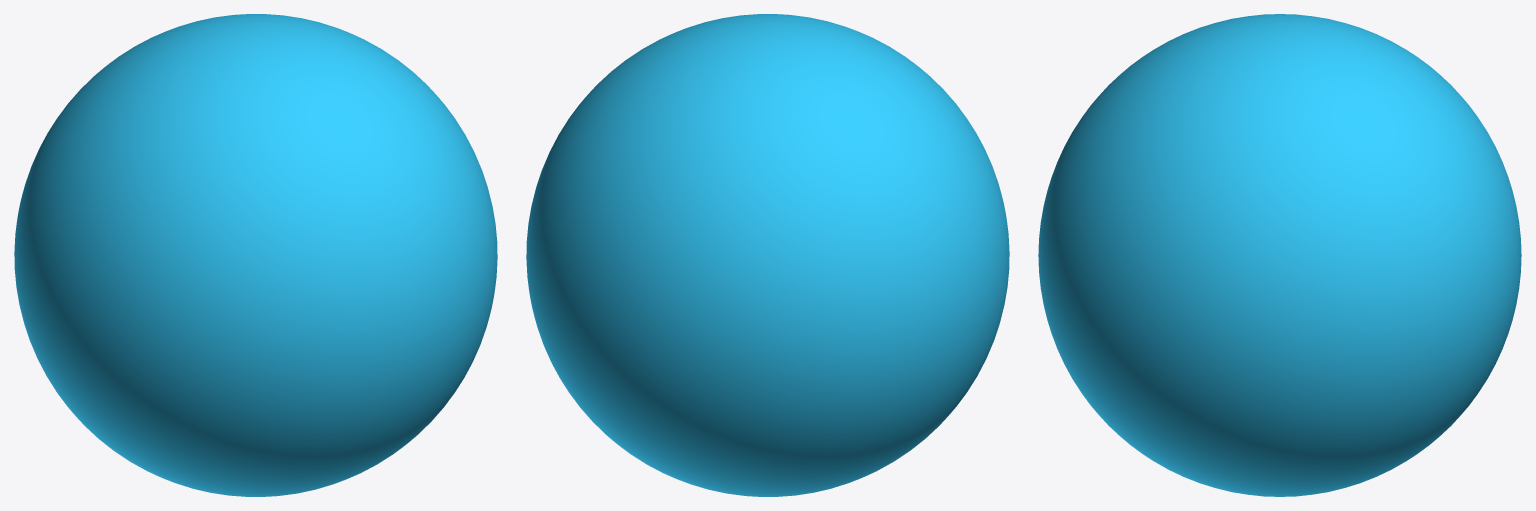
The model's file is world.obj.
3 views of the same model, side by side, from view 1: azimuth 30°, elevation 25°; view 2: azimuth 150°, elevation 25°; view 3: azimuth 270°, elevation 25° (orthographic).
Parts seen in each view (by area): view 1: Icosphere_Icosphere.003; view 2: Icosphere_Icosphere.003; view 3: Icosphere_Icosphere.003.
Boxes of the visible parts, x1=… form: Icosphere_Icosphere.003: x1=14, y1=14, x2=497, y2=496; Icosphere_Icosphere.003: x1=526, y1=14, x2=1009, y2=496; Icosphere_Icosphere.003: x1=1038, y1=14, x2=1521, y2=496.
Bounding box in the file's own units: 17.65 × 17.65 × 17.65.
